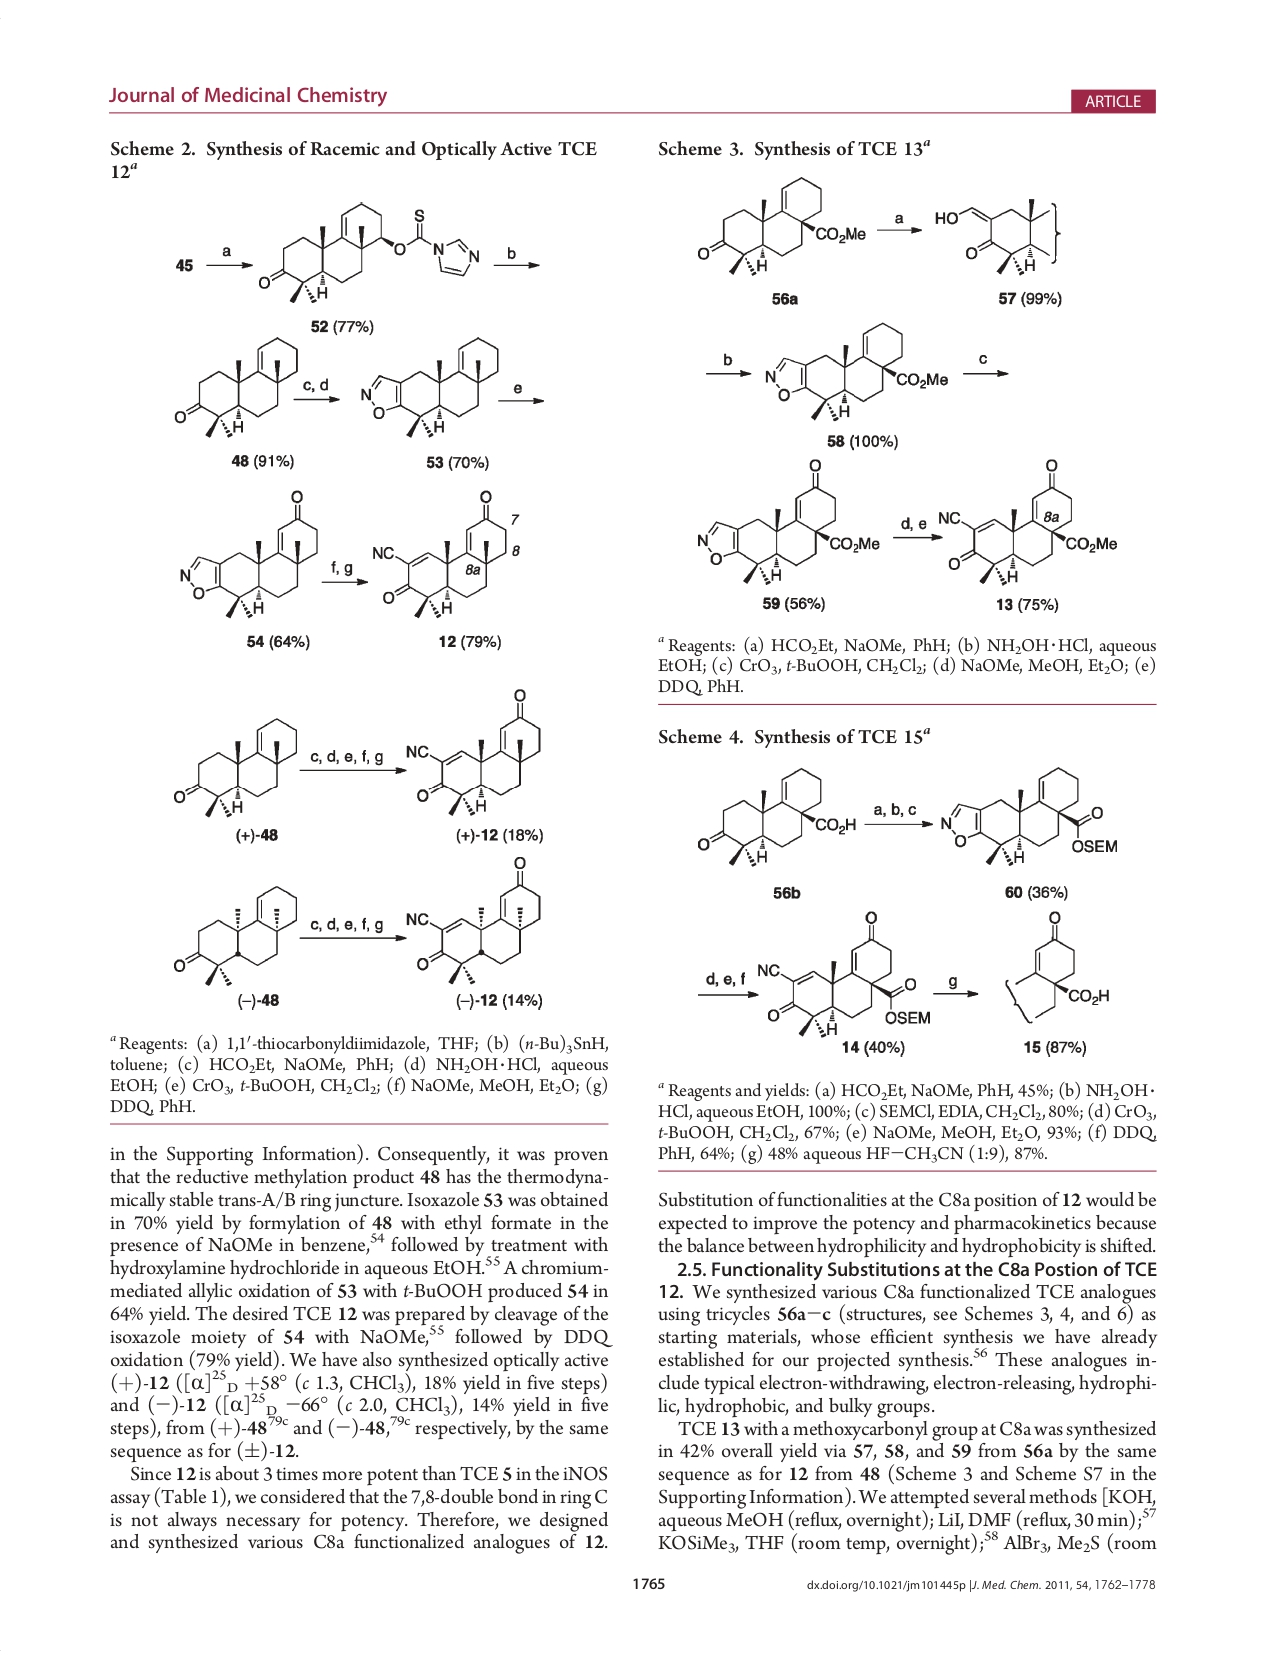exist_molecular: (694, 456, 884, 586), (257, 199, 481, 306), (938, 457, 1122, 586), (757, 910, 932, 1040), (174, 488, 320, 626), (763, 318, 949, 424), (938, 763, 1121, 870), (688, 174, 870, 279), (406, 688, 545, 819), (406, 855, 545, 985), (370, 489, 511, 618), (694, 762, 862, 868), (165, 878, 301, 987), (359, 335, 501, 438), (169, 714, 299, 819), (172, 334, 301, 438), (930, 185, 1053, 281), (1015, 908, 1113, 1021)
